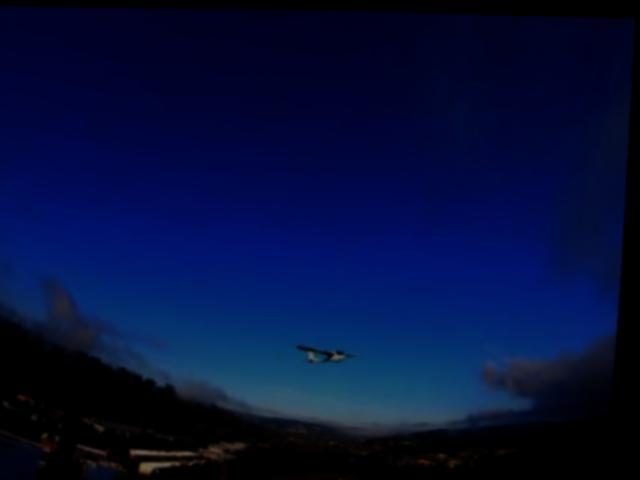uav: (295, 333, 366, 376)
